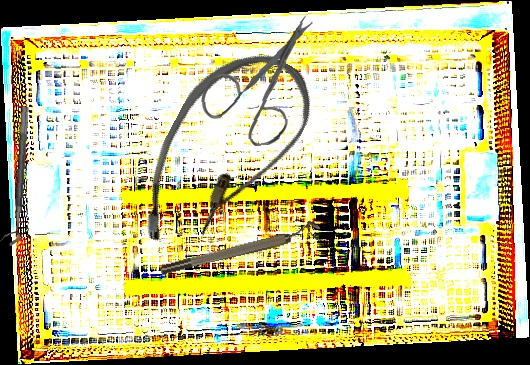Cannula: (120, 30, 328, 278)
Fixation Ring: (157, 219, 323, 278), (0, 105, 30, 247)
Iris Scissors: (196, 14, 322, 149)
